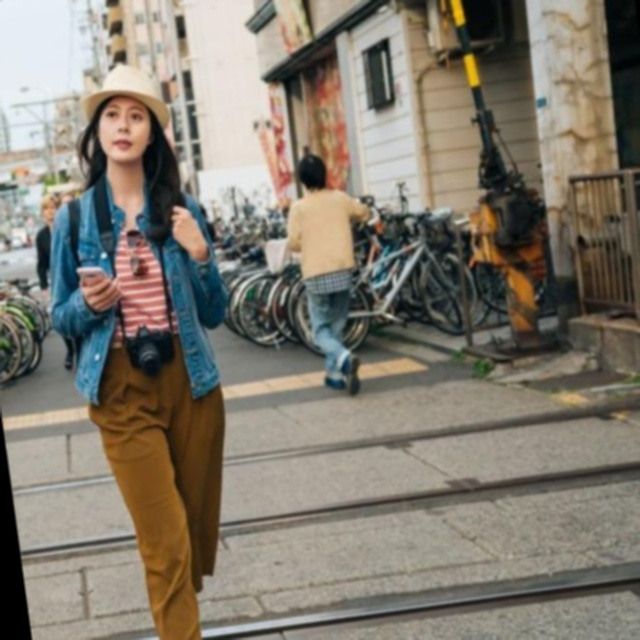Sin_Casco_Mascarrilla: (75, 56, 176, 167)
Sin_Chaleco: (50, 166, 226, 371)
